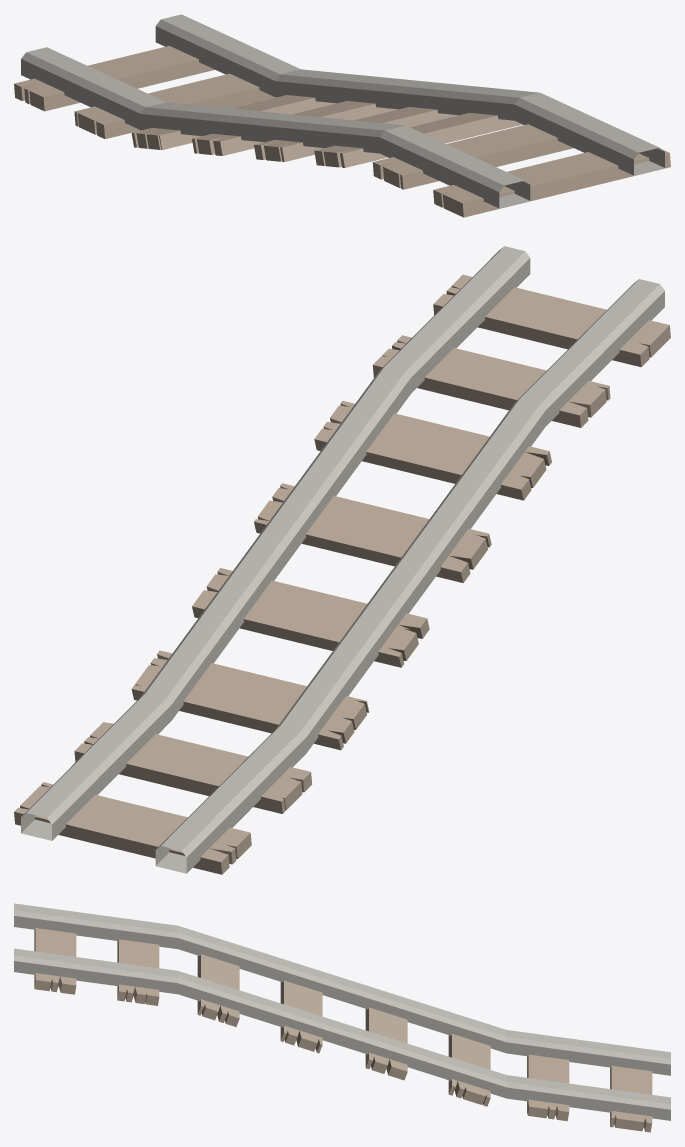
The model's file is Cave_Prop_Railway_Hill_Gentle.glb.
The picture shows the model from 3 angles, top to bottom: view 1: azimuth 30°, elevation 25°; view 2: azimuth 150°, elevation 25°; view 3: azimuth 270°, elevation 25°; orthographic projection. The views are drawn at different scales.
Parts seen in each view (by area): view 1: Cave_Prop_Railway_Hill_Gentle; view 2: Cave_Prop_Railway_Hill_Gentle; view 3: Cave_Prop_Railway_Hill_Gentle.
Boxes of the visible parts, box(x1,y1,x2,y2) form: Cave_Prop_Railway_Hill_Gentle: box(14, 14, 670, 217); Cave_Prop_Railway_Hill_Gentle: box(14, 246, 670, 874); Cave_Prop_Railway_Hill_Gentle: box(14, 903, 670, 1132).
Size of the model in its own units: 0.5 by 0.5657 by 2.
